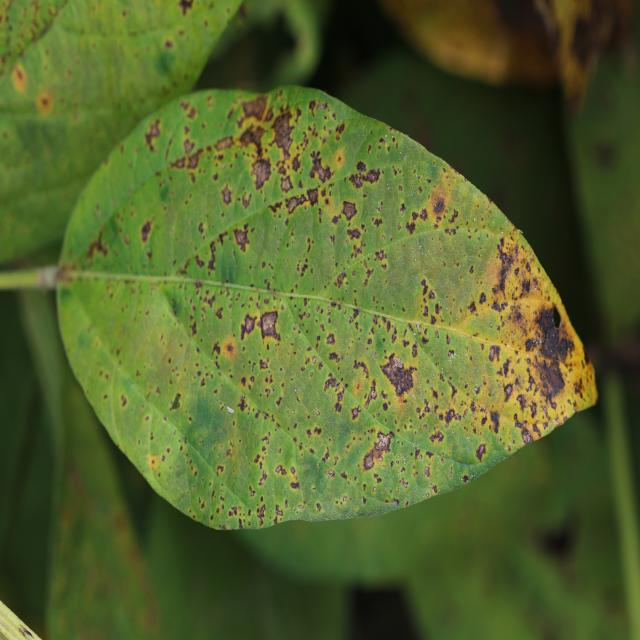Bacterial_Blight: (421, 344, 492, 452), (228, 106, 291, 192), (406, 184, 462, 255), (326, 190, 376, 257), (532, 308, 579, 366), (415, 281, 457, 332), (492, 240, 527, 301), (254, 297, 288, 344), (379, 354, 416, 397), (362, 435, 396, 474), (537, 358, 566, 400), (347, 162, 382, 191), (169, 145, 204, 172), (238, 124, 267, 153), (308, 151, 334, 183), (404, 205, 431, 235), (241, 94, 269, 122), (85, 228, 109, 260), (323, 372, 344, 401), (144, 118, 162, 151), (374, 430, 395, 453), (232, 227, 250, 252), (363, 381, 378, 408), (206, 242, 218, 273), (221, 336, 237, 359), (341, 200, 358, 221), (353, 359, 370, 379), (214, 135, 234, 151), (140, 219, 153, 243), (443, 407, 458, 427), (488, 344, 501, 363), (362, 452, 375, 471), (429, 428, 444, 444), (432, 198, 445, 215), (221, 185, 232, 205), (170, 393, 182, 411), (521, 429, 534, 445), (335, 271, 347, 288), (256, 503, 266, 522), (241, 192, 252, 209), (237, 395, 247, 412), (350, 406, 361, 421), (406, 220, 416, 235), (211, 342, 221, 356), (275, 464, 286, 476), (468, 300, 477, 314), (326, 333, 336, 345), (120, 394, 128, 408), (259, 359, 269, 370), (216, 464, 224, 477), (149, 456, 157, 469)
Soybean: (57, 88, 596, 529)
